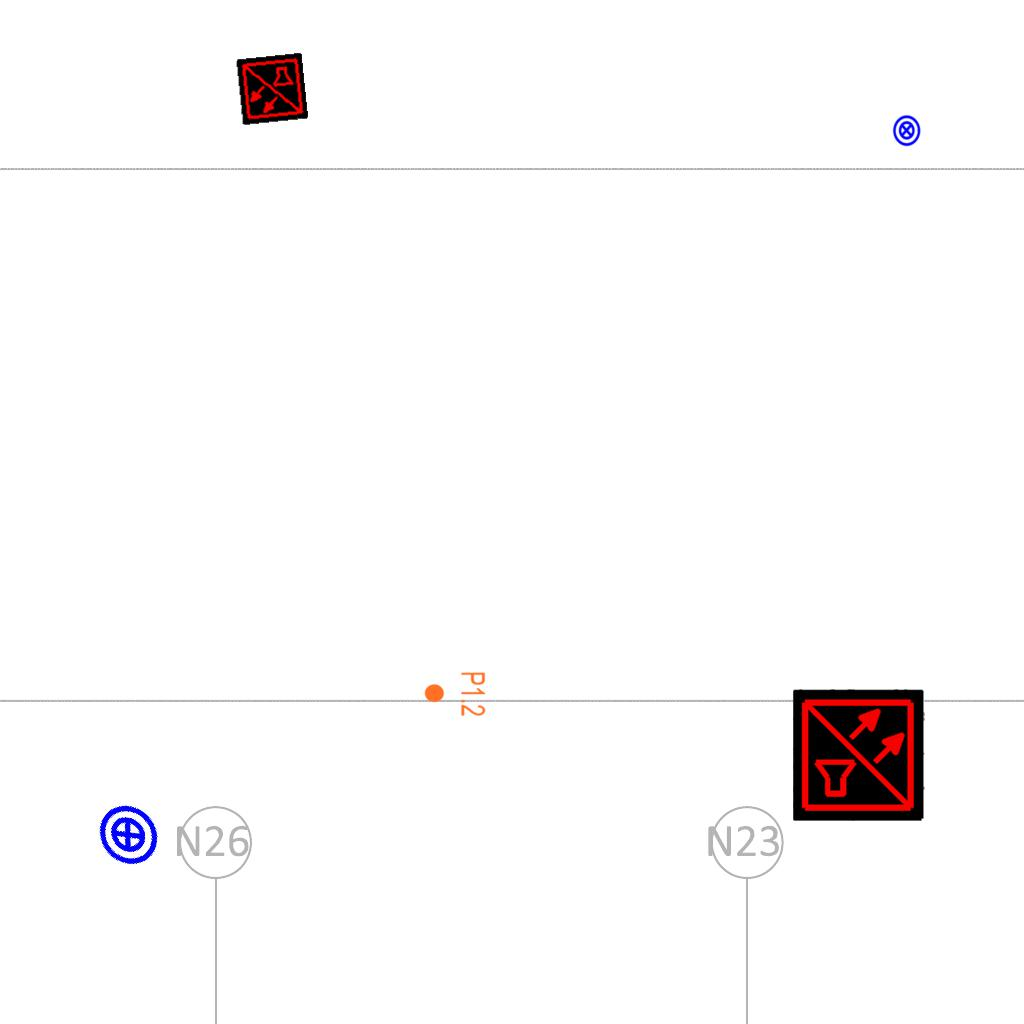Downlight_LED_Einbauleuchten_Flur: (423, 671, 487, 717)
OKW_Multisensormelder_(Kombination_optischer_Rauch-Kahlenmonoxid_Waerme-Melder): (793, 689, 925, 821), (235, 52, 309, 126)
Taster_beleuchtet: (81, 788, 175, 882), (890, 114, 923, 147)
